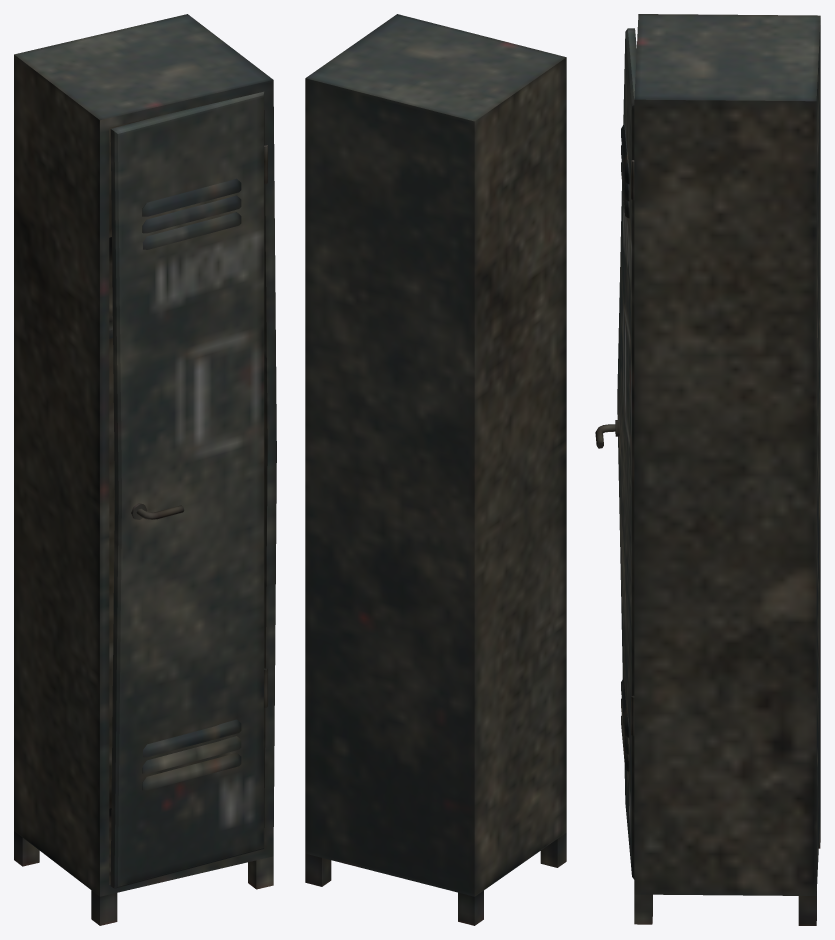
Rendered from MetalCabinet.FBX.
The picture shows the model from 3 angles, left to right: view 1: azimuth 30°, elevation 25°; view 2: azimuth 150°, elevation 25°; view 3: azimuth 270°, elevation 25°; orthographic projection. The views are drawn at different scales.
Parts seen in each view (by area): view 1: Door, MetalCabinet; view 2: MetalCabinet; view 3: MetalCabinet, Door.
Part boxes in pixels (x1,y1,x2,y2): Door: [110, 91, 267, 888]; MetalCabinet: [14, 14, 276, 925]; MetalCabinet: [305, 14, 566, 925]; MetalCabinet: [634, 14, 820, 925]; Door: [595, 28, 636, 879].
Size of the model in its own units: 41.33 by 182 by 45.02.
